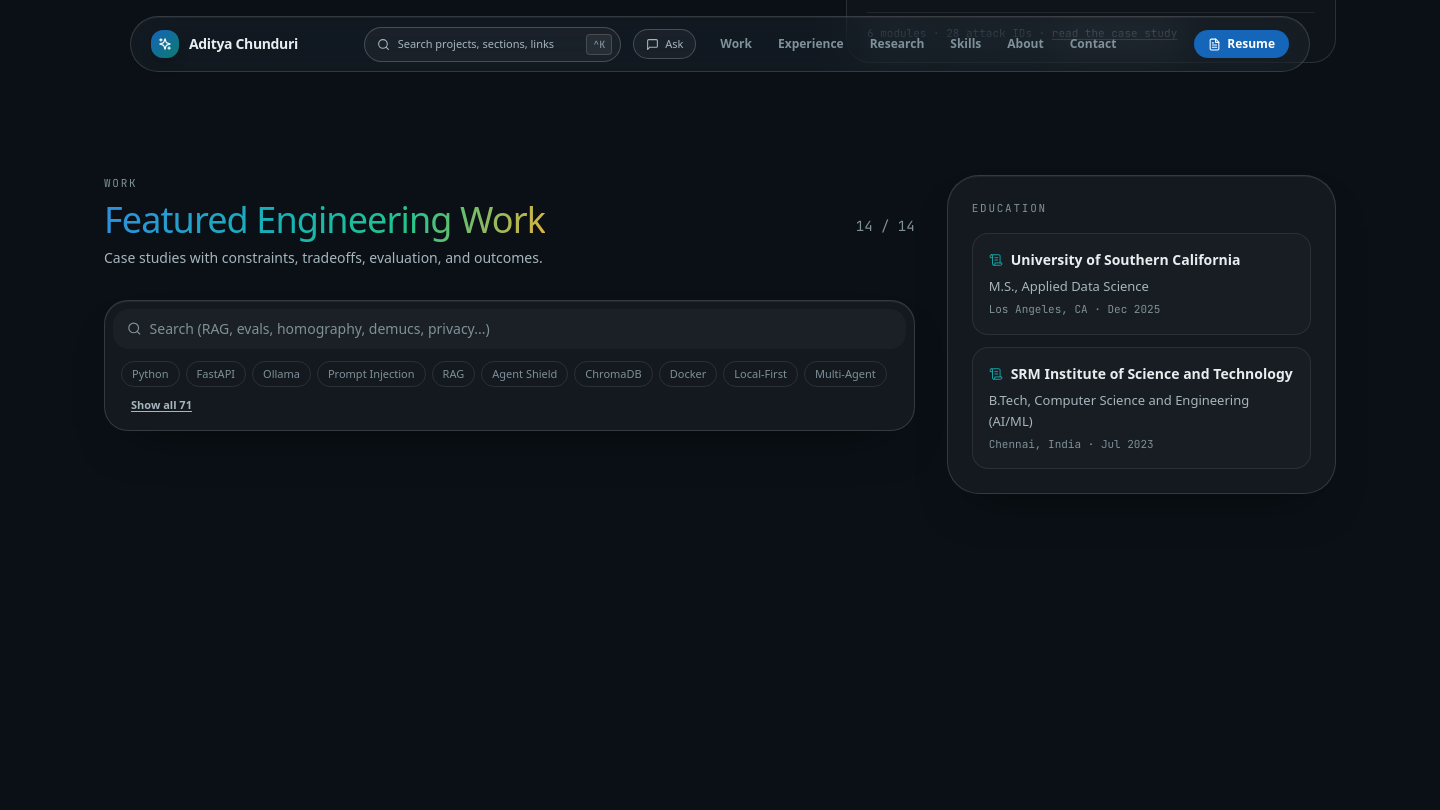
Test case: Portfolio › the tag filter shows a preview, not every tag at once
The image size is (1440, 810).
(page scrolled)
Expected: the button "Inspect AI" is not shown
What coordinates should you click on to do the following:
click the button "Show all 71"
I would click on:
 (162, 406)
Its box is [121,393,202,418].
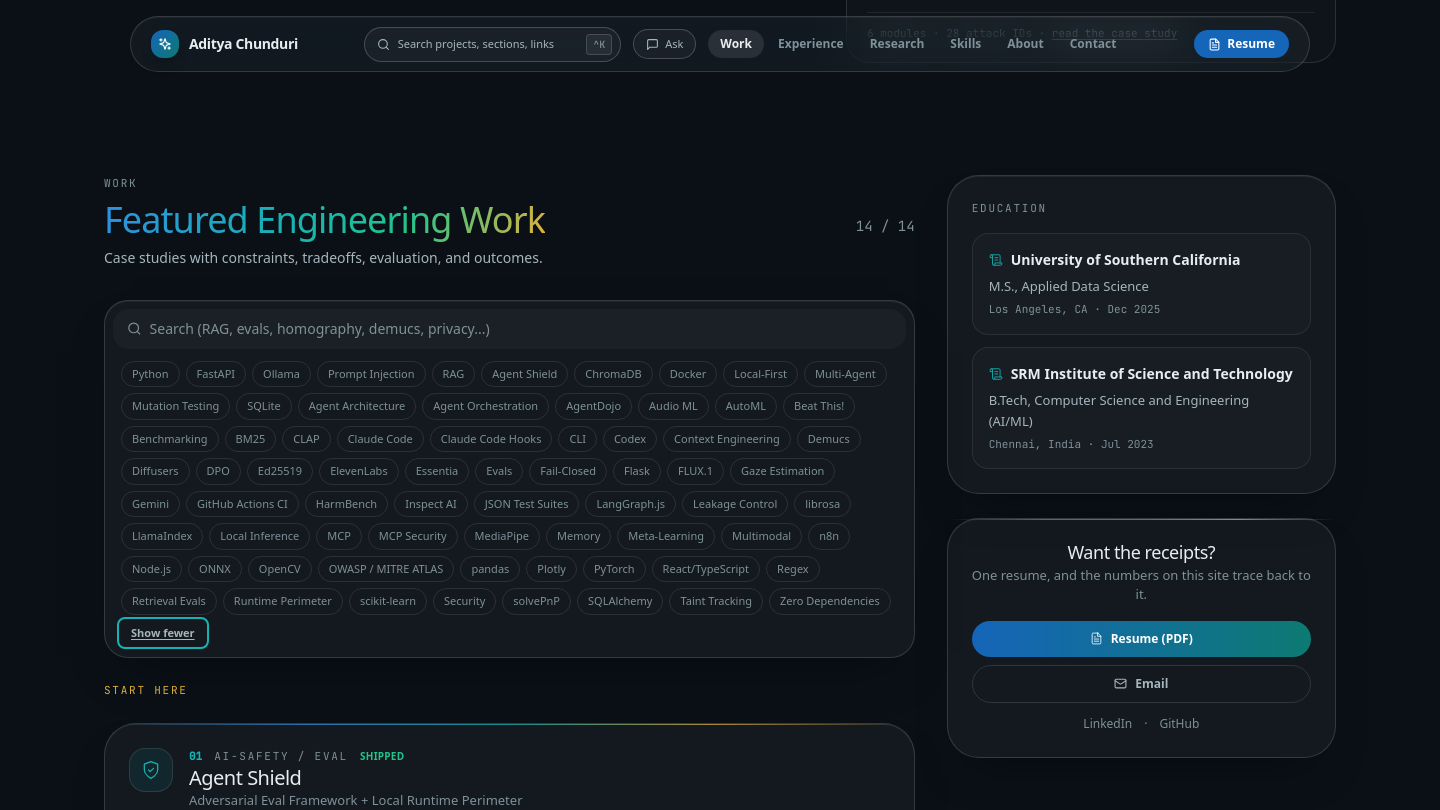
Expected: the button "Inspect AI" is shown, [394,491,468,517]
Expected: the button "Show fewer" is shown, [121,621,205,645]
